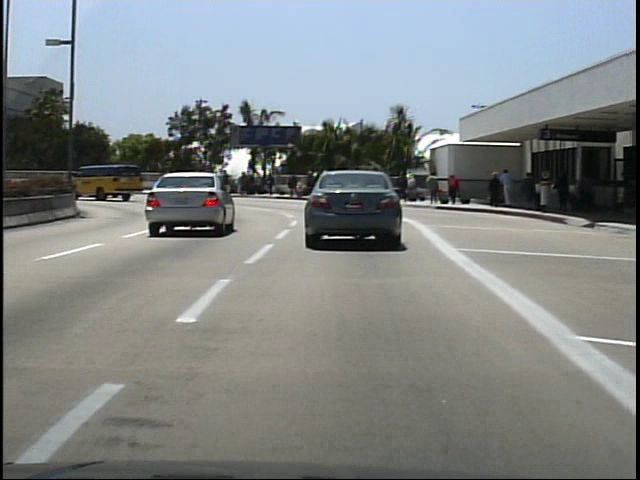person: (575, 165, 597, 218), (554, 164, 573, 214), (520, 168, 540, 212), (500, 166, 517, 210), (426, 169, 444, 207), (488, 170, 505, 210), (447, 172, 465, 209), (397, 170, 411, 205), (101, 164, 115, 193), (157, 169, 173, 194)
